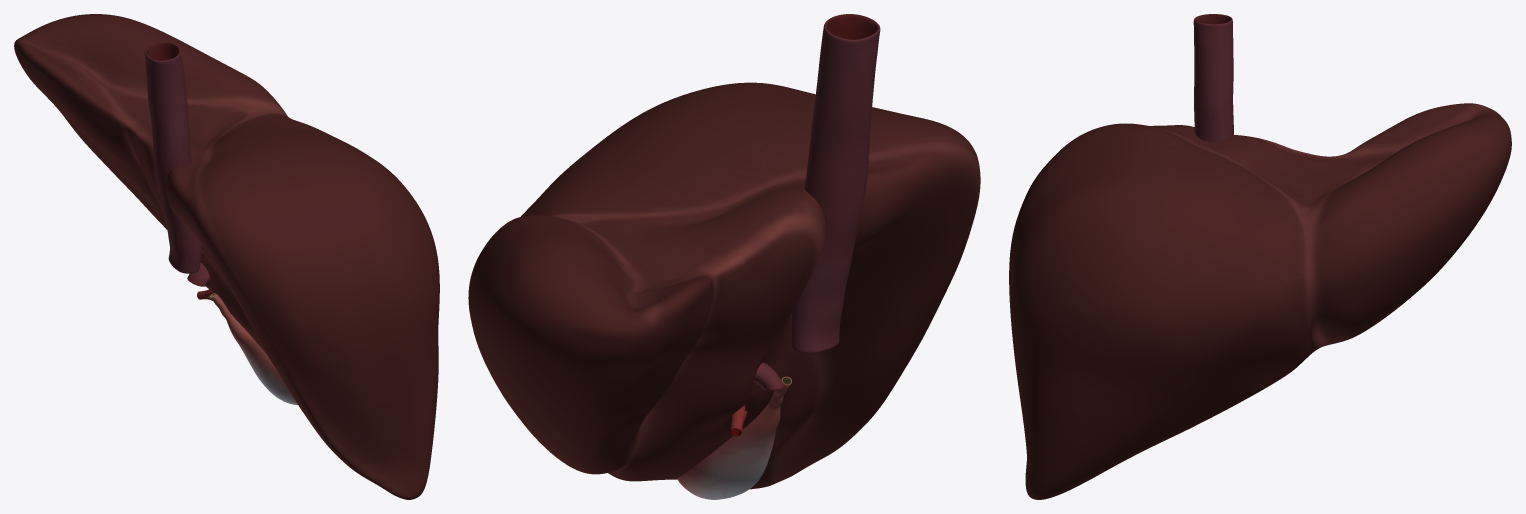
File: liver.glb
The picture shows the model from 3 angles, left to right: view 1: azimuth 30°, elevation 25°; view 2: azimuth 150°, elevation 25°; view 3: azimuth 270°, elevation 25°; orthographic projection. The views are drawn at different scales.
Visible parts, largest first — view 1: liver.001, inferior vena cava.001, gallbladder.002; view 2: liver.001, inferior vena cava.001, gallbladder.002, portal vein.001; view 3: liver.001, inferior vena cava.001.
Part boxes in pixels (bbox=[...]): liver.001: bbox=[14, 14, 439, 499]; inferior vena cava.001: bbox=[144, 42, 202, 273]; gallbladder.002: bbox=[209, 292, 297, 405]; liver.001: bbox=[468, 82, 980, 489]; inferior vena cava.001: bbox=[790, 14, 880, 353]; gallbladder.002: bbox=[677, 376, 791, 499]; portal vein.001: bbox=[753, 362, 784, 390]; liver.001: bbox=[1009, 103, 1511, 499]; inferior vena cava.001: bbox=[1193, 14, 1233, 141].
Bounding box in the file's own units: 8.29 × 13.58 × 15.26.
5 materials, 5 textured.
